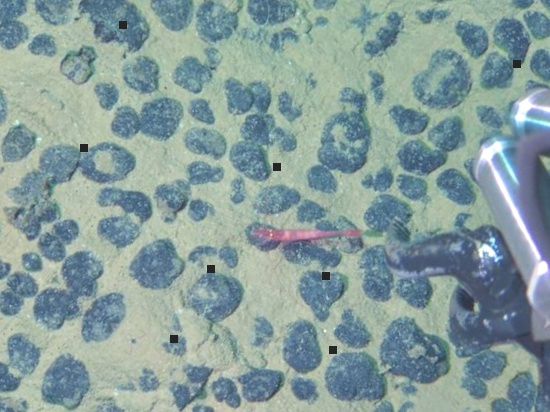halobolite: (228, 66, 298, 146), (177, 261, 249, 333), (423, 221, 496, 286), (409, 53, 476, 111), (38, 349, 90, 406), (337, 281, 389, 334), (86, 1, 146, 46), (317, 227, 368, 279), (32, 162, 83, 212), (79, 293, 130, 343), (171, 48, 225, 95), (362, 192, 411, 241), (61, 256, 108, 307), (97, 281, 159, 319), (459, 347, 506, 397), (121, 355, 168, 403), (323, 121, 373, 166), (334, 349, 378, 400), (78, 185, 121, 236), (105, 95, 146, 148), (34, 136, 73, 191), (490, 15, 533, 64), (60, 49, 104, 96), (114, 55, 168, 93), (288, 210, 343, 247), (1, 115, 46, 160), (25, 287, 66, 335), (373, 239, 417, 283), (424, 113, 472, 152), (437, 167, 481, 208), (212, 166, 249, 213), (277, 323, 315, 367), (179, 172, 228, 206), (132, 184, 178, 218), (257, 181, 300, 217), (146, 249, 181, 293), (500, 379, 546, 412), (399, 136, 440, 173), (228, 148, 276, 179), (183, 99, 222, 136), (233, 32, 278, 64), (246, 1, 301, 27), (156, 212, 193, 249), (306, 299, 336, 343), (239, 371, 279, 404), (329, 92, 373, 121), (111, 162, 154, 190), (23, 208, 59, 241), (29, 25, 62, 61), (166, 378, 200, 412), (82, 136, 116, 170), (61, 220, 93, 255), (131, 132, 169, 161), (306, 105, 335, 142), (154, 116, 191, 145), (169, 144, 203, 175), (474, 102, 508, 132), (160, 1, 199, 26), (178, 246, 210, 276), (197, 138, 233, 164), (249, 310, 273, 348), (1, 196, 19, 244), (199, 206, 225, 239), (1, 303, 20, 347), (377, 329, 409, 355), (1, 21, 33, 47), (294, 380, 323, 407), (81, 393, 115, 412), (1, 90, 20, 122)
